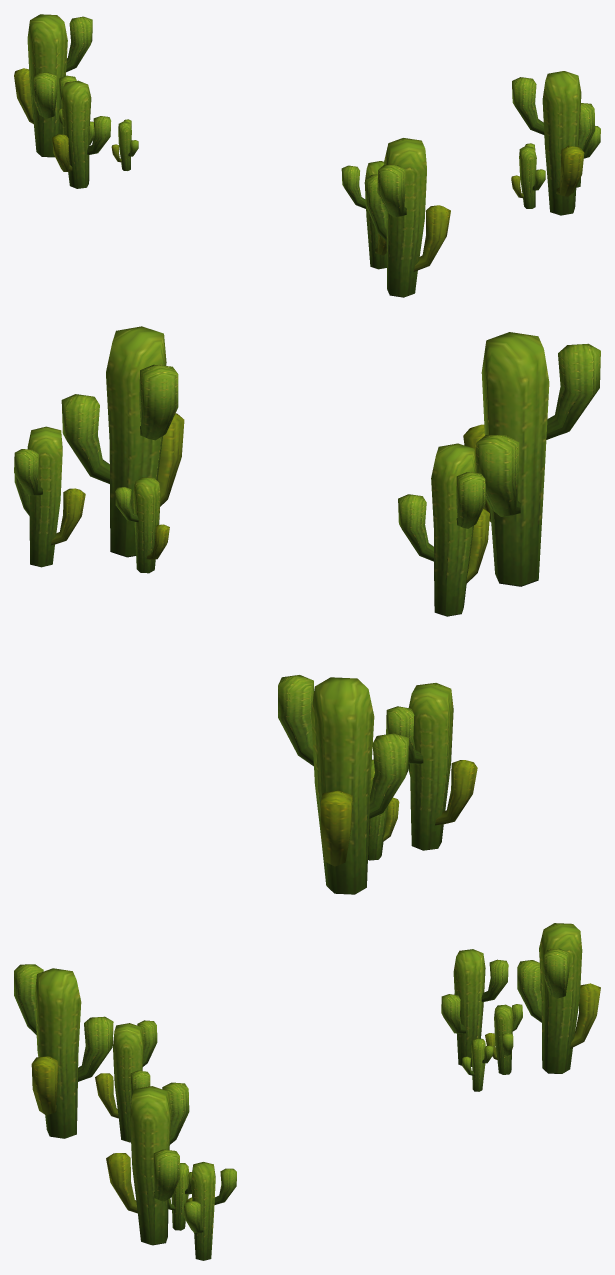
File: Area_03_2.fbx
3 views of the same model, one above another, from view 1: azimuth 30°, elevation 25°; view 2: azimuth 150°, elevation 25°; view 3: azimuth 270°, elevation 25° (orthographic). The views are drawn at different scales.
Parts seen in each view (by area): view 1: Area_03_2; view 2: Area_03_2; view 3: Area_03_2.
Part boxes in pixels (x1,y1,x2,y2): Area_03_2: (14,14,600,297); Area_03_2: (14,326,600,894); Area_03_2: (14,923,600,1260).
Size of the model in its own units: 3337 by 1147 by 3764.
1 material, 1 textured.
